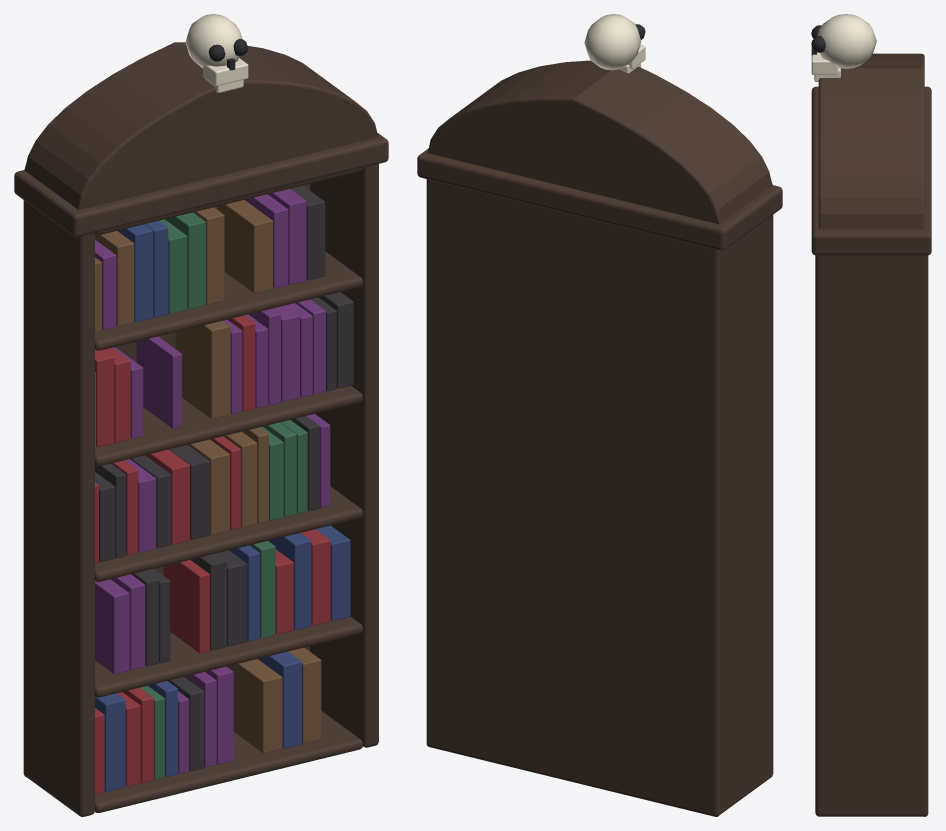
Rendered from bookshelf_skull_crown.glb.
3 views of the same model, side by side, from view 1: azimuth 30°, elevation 25°; view 2: azimuth 150°, elevation 25°; view 3: azimuth 270°, elevation 25° (orthographic). The views are drawn at different scales.
Parts seen in each view (by area): view 1: GD_bookshelf_skull_crown__m0, GD_bookshelf_skull_crown__m4, GD_bookshelf_skull_crown__m6, GD_bookshelf_skull_crown__m2, GD_bookshelf_skull_crown__m5, GD_bookshelf_skull_crown__m1, GD_bookshelf_skull_crown__m3, GD_bookshelf_skull_crown__m7; view 2: GD_bookshelf_skull_crown__m0, GD_bookshelf_skull_crown__m7; view 3: GD_bookshelf_skull_crown__m0, GD_bookshelf_skull_crown__m7, GD_bookshelf_skull_crown__m8.
Boxes of the visible parts, x1,y1,x2,y2 form: GD_bookshelf_skull_crown__m0: (14,42,388,816); GD_bookshelf_skull_crown__m4: (95,188,330,773); GD_bookshelf_skull_crown__m6: (95,200,321,753); GD_bookshelf_skull_crown__m2: (95,315,330,794); GD_bookshelf_skull_crown__m5: (95,185,353,771); GD_bookshelf_skull_crown__m1: (95,220,350,791); GD_bookshelf_skull_crown__m3: (95,212,307,779); GD_bookshelf_skull_crown__m7: (185,14,248,92); GD_bookshelf_skull_crown__m0: (417,60,782,816); GD_bookshelf_skull_crown__m7: (584,14,645,73); GD_bookshelf_skull_crown__m0: (811,53,931,816); GD_bookshelf_skull_crown__m7: (811,14,876,81); GD_bookshelf_skull_crown__m8: (811,25,825,55).
Size of the model in its own units: 1 by 2.28 by 0.3415.
